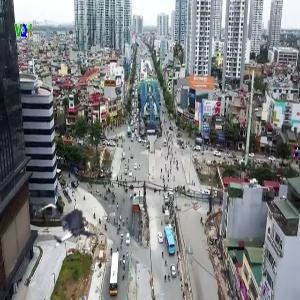drone: (36, 194, 101, 259)
